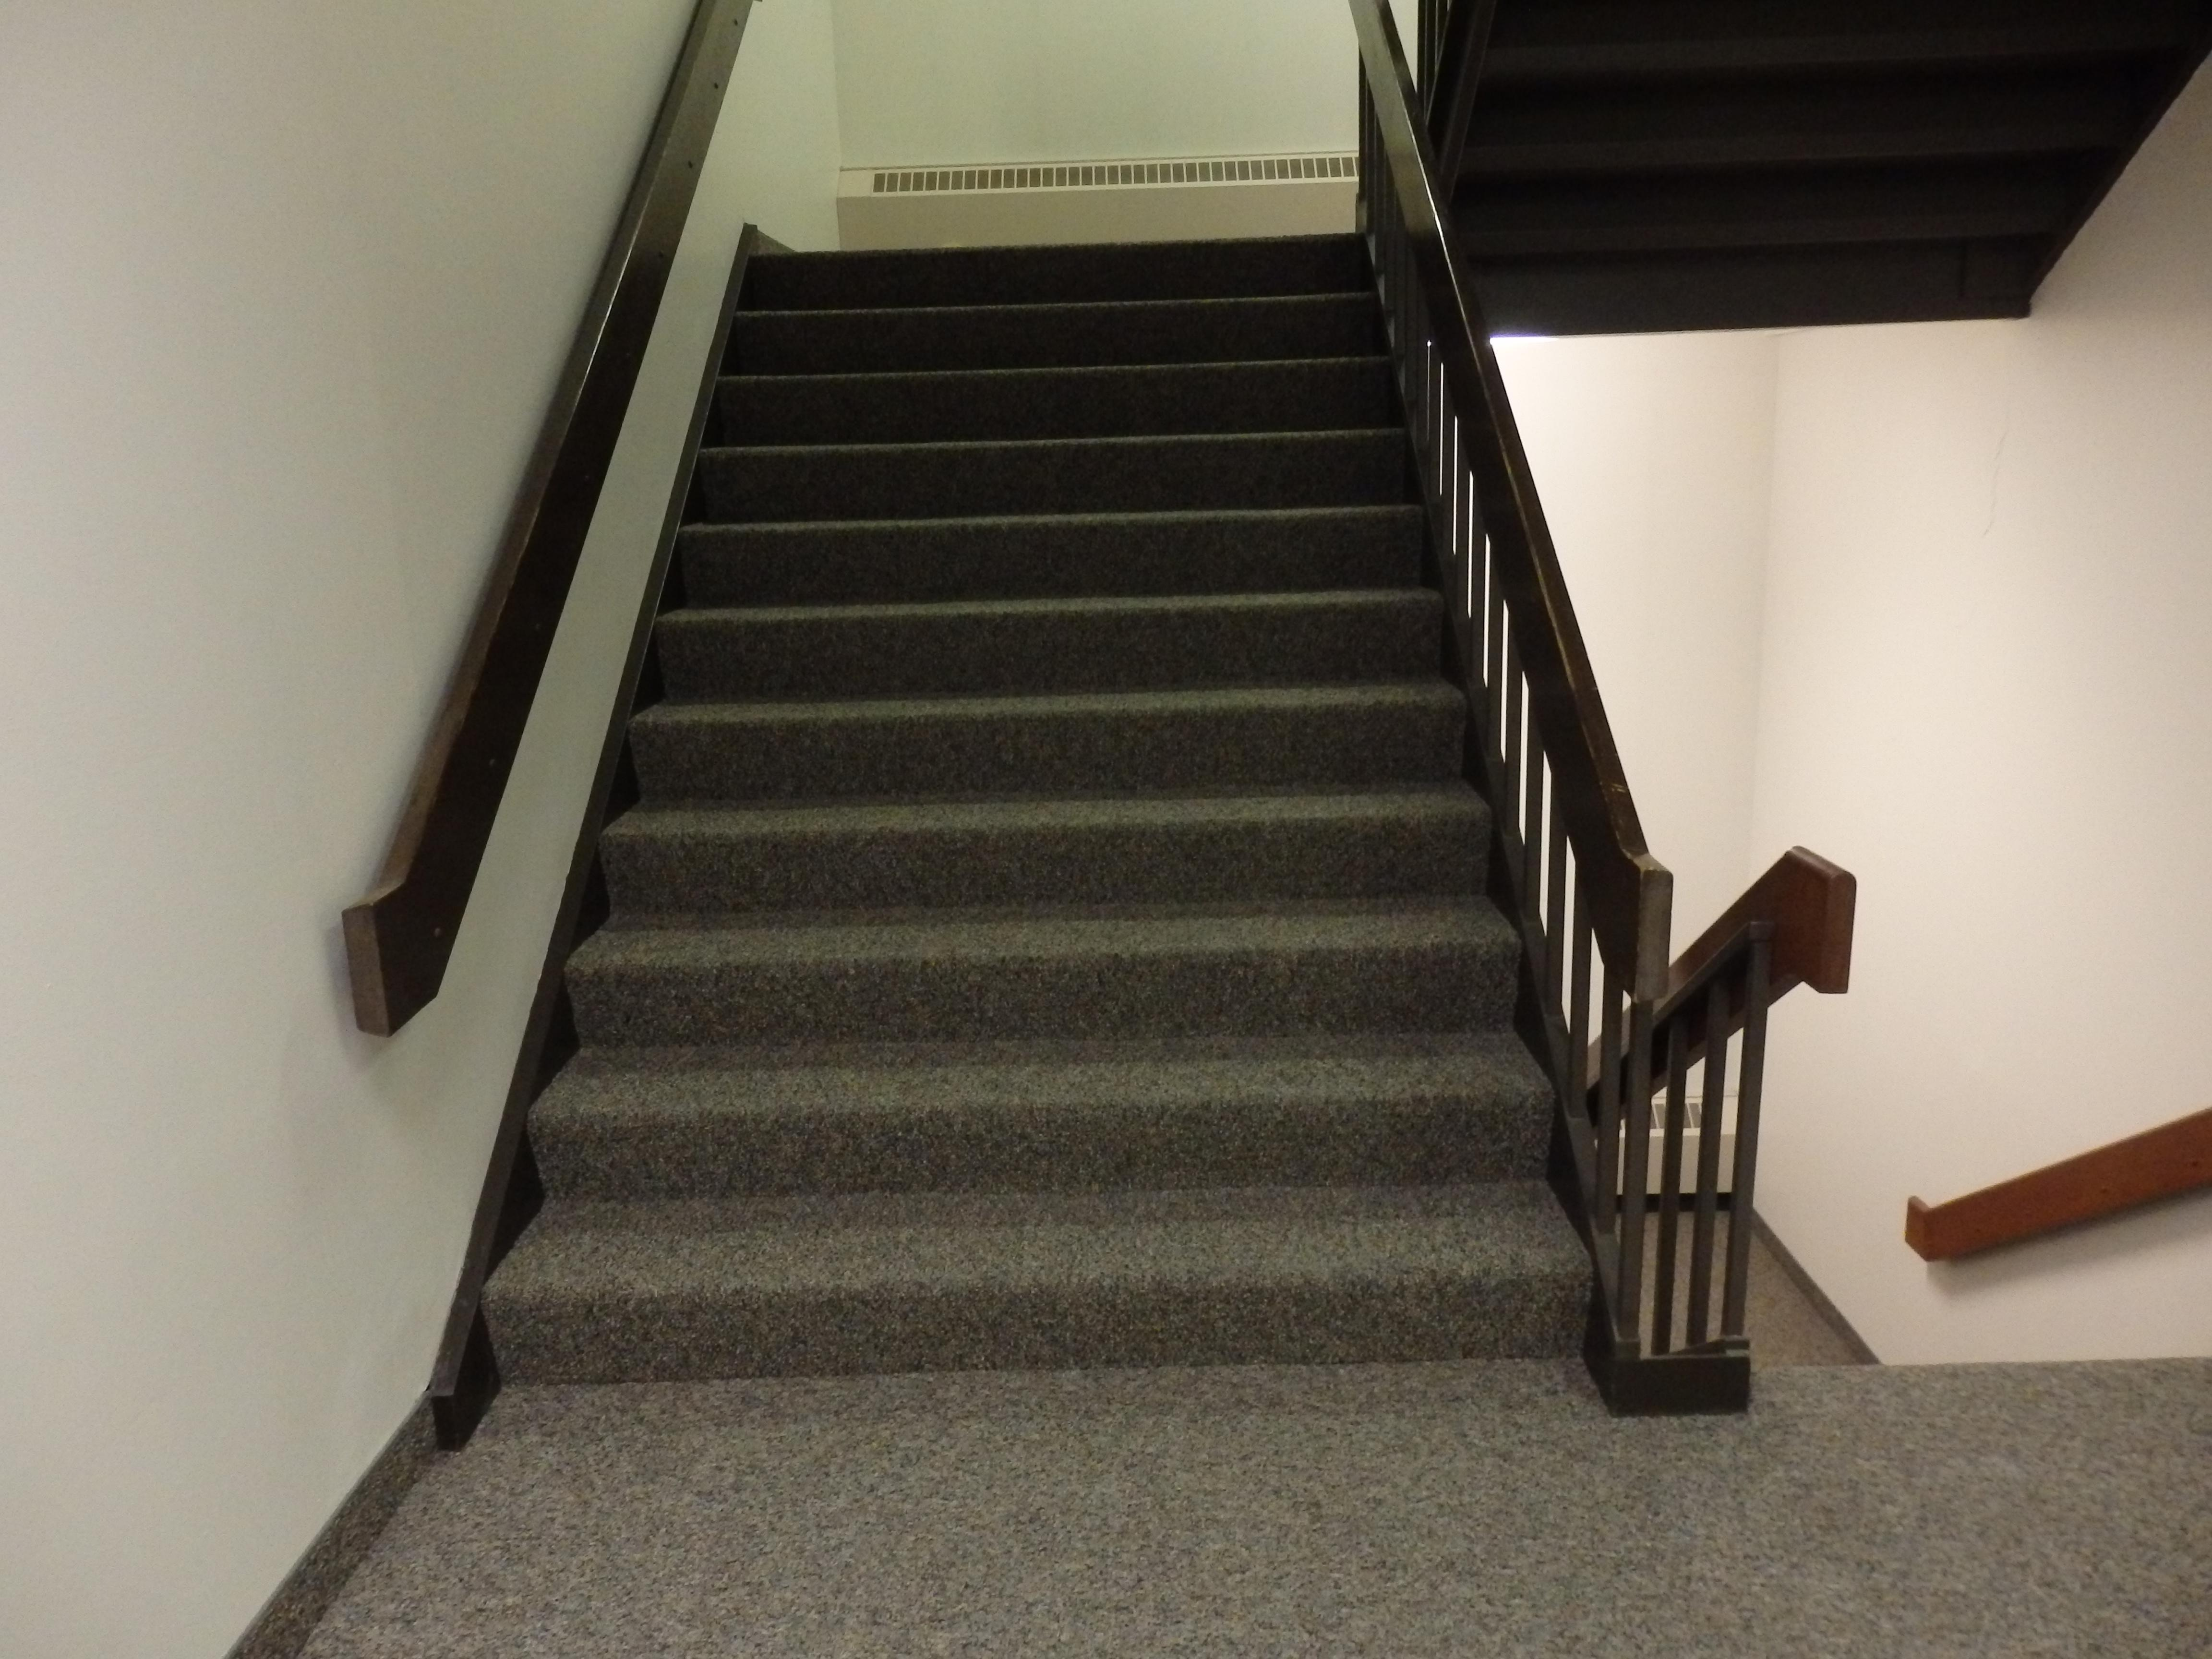stairs_up: (585, 251, 1569, 1316)
